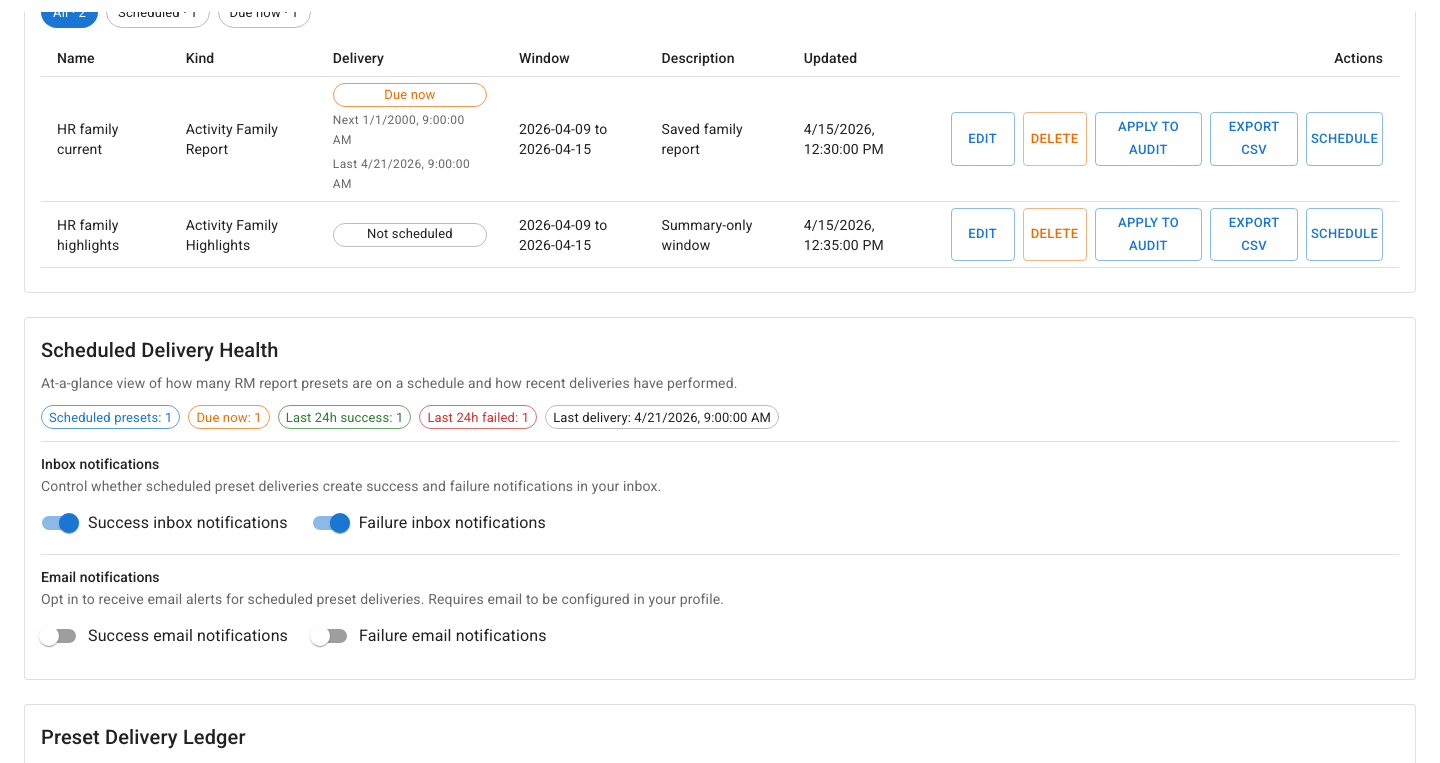
it: RecordsManagementPage › filters saved presets from scheduled delivery health drilldowns
(page scrolled)
Expected: the text "Due now" is shown, [384,87,436,102]
Expected: the text "Not scheduled" is shown, [360,225,460,244]
Click the button "Due now: 1".
click(229, 417)  # box [188,405,270,429]
(page scrolled)
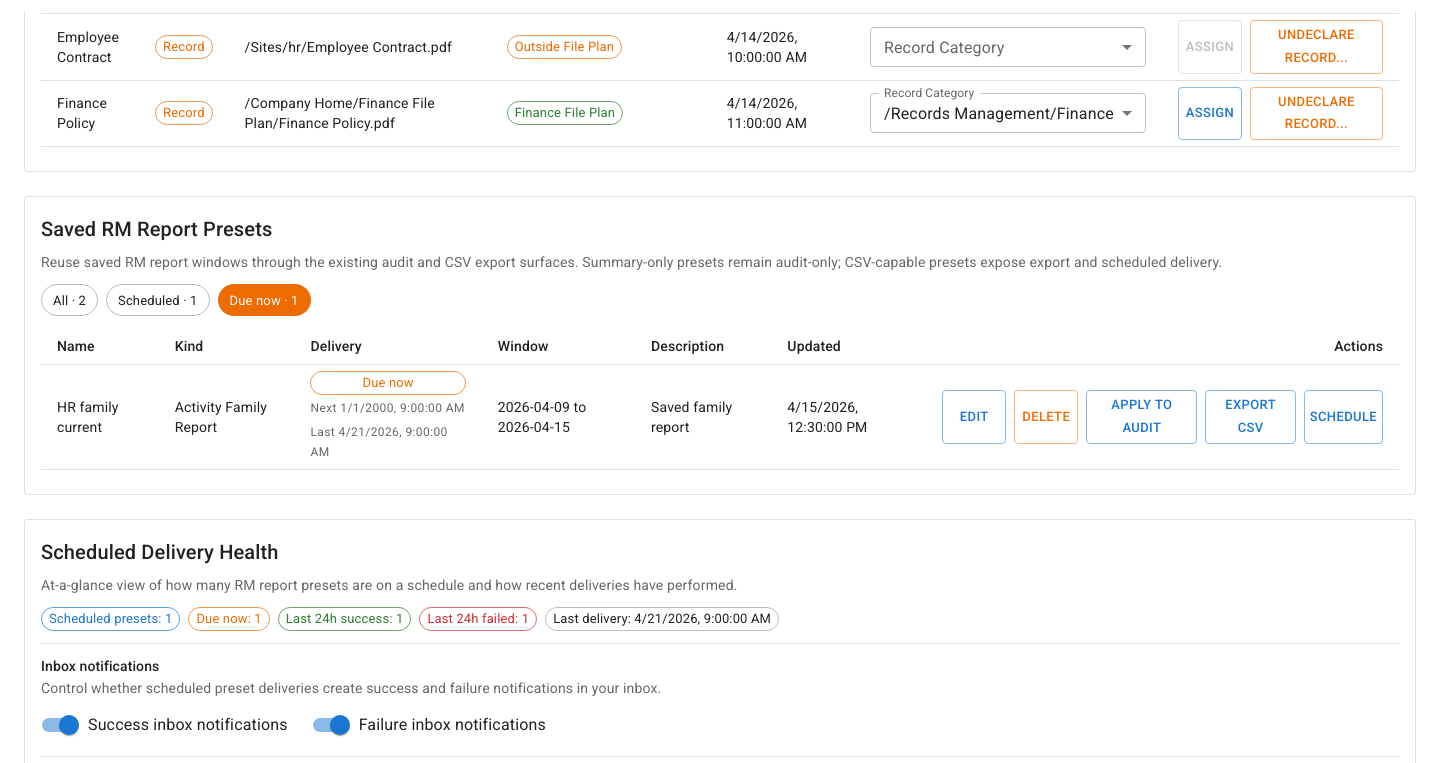
Expected: the text "Due now · 1" is shown, [230,292,299,308]
Now the text "HR family highlights" is gone
